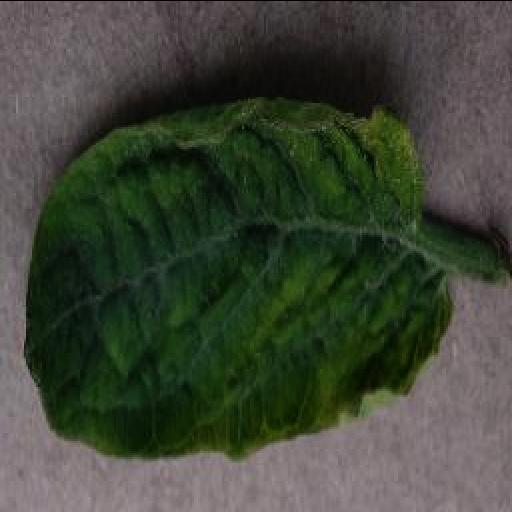disease_tomato: (22, 93, 452, 463)
